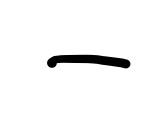minus: (47, 50, 131, 73)
